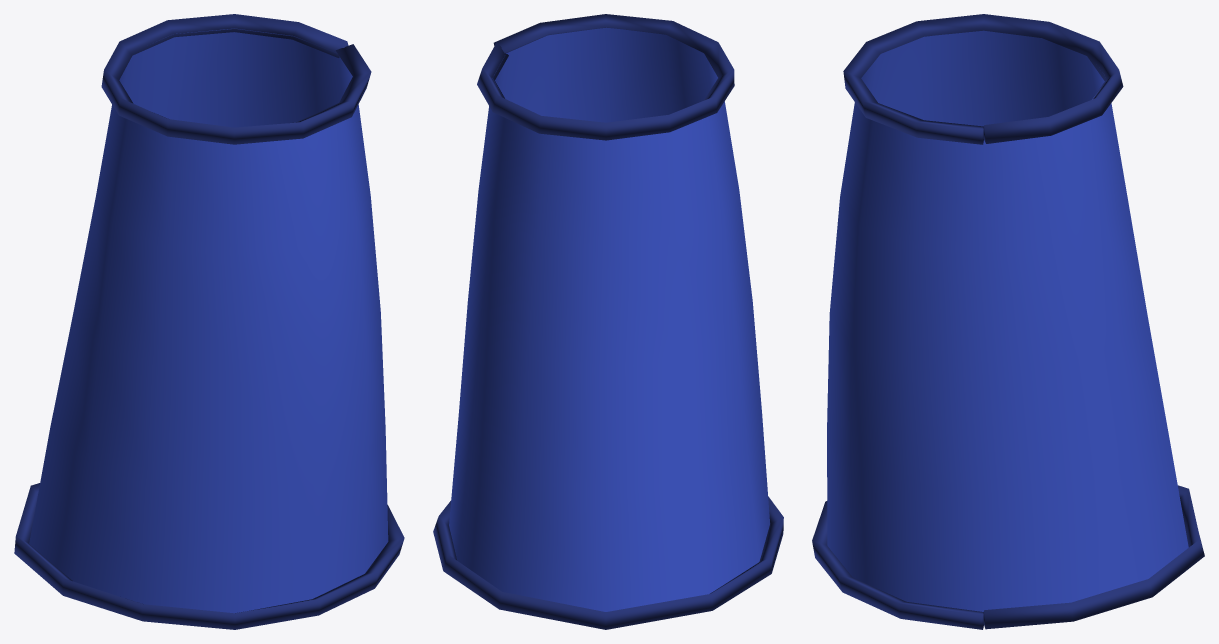
File: shroomite_armor_cuisse.R.glb
The picture shows the model from 3 angles, left to right: view 1: azimuth 30°, elevation 25°; view 2: azimuth 150°, elevation 25°; view 3: azimuth 270°, elevation 25°; orthographic projection. The views are drawn at different scales.
Parts seen in each view (by area): view 1: shroomite_armor_cuisse.R; view 2: shroomite_armor_cuisse.R; view 3: shroomite_armor_cuisse.R.
Boxes of the visible parts, x1,y1,x2,y2 form: shroomite_armor_cuisse.R: (14, 14, 404, 629); shroomite_armor_cuisse.R: (433, 14, 783, 629); shroomite_armor_cuisse.R: (812, 14, 1204, 629).
Bounding box in the file's own units: 0.2685 × 0.3856 × 0.2809.
